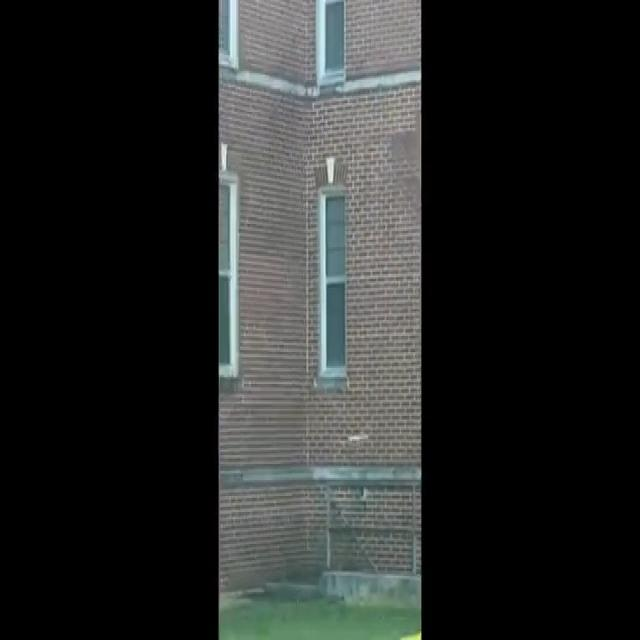drone: (341, 423, 373, 448)
